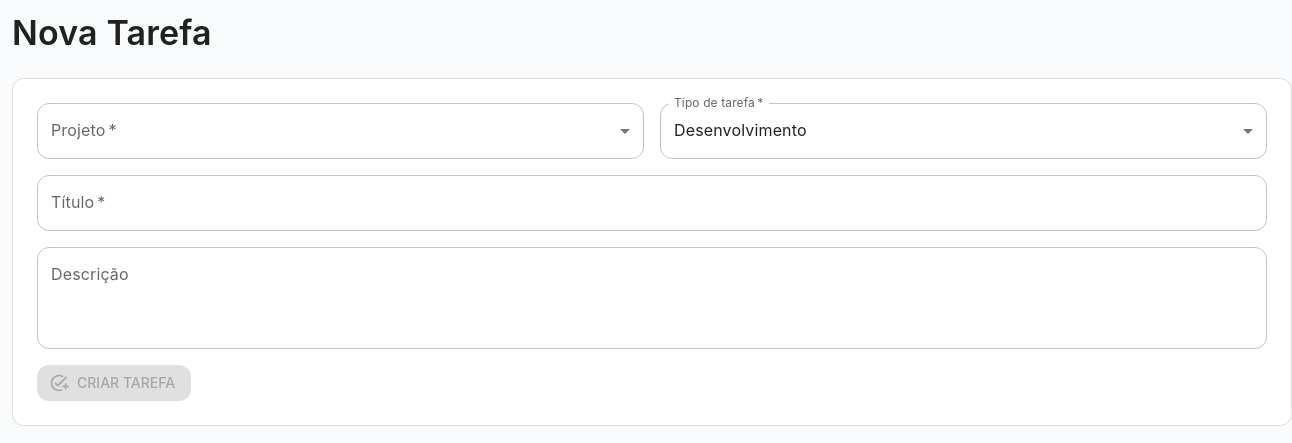
it: NovaTarefaScreen › habilita o botão quando projeto e título estão preenchidos
Click the 1st dropdown. click: (340, 131)
box: 37,103 -> 644,159
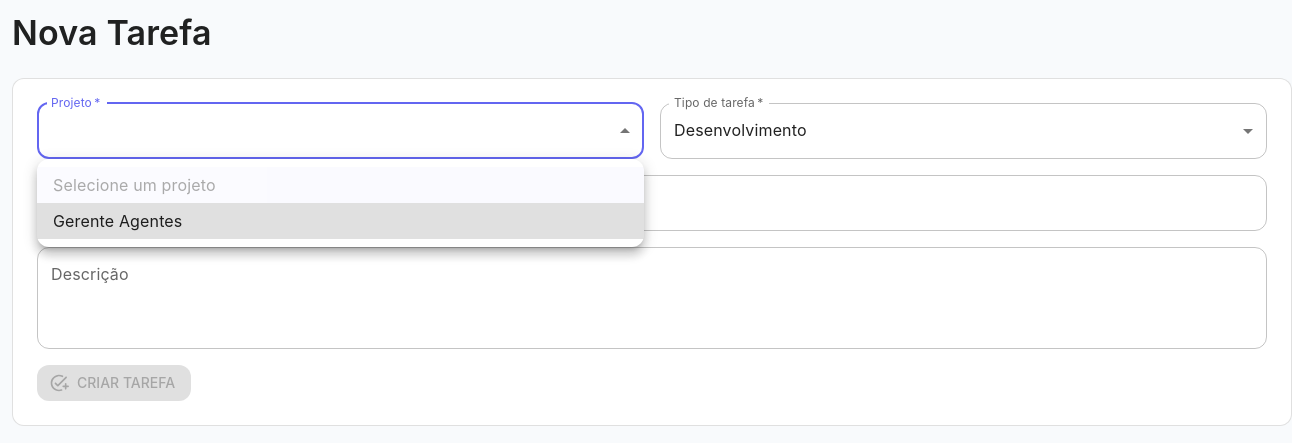
Click the option "Gerente Agentes". click: (118, 221)
box: 37,203 -> 644,239
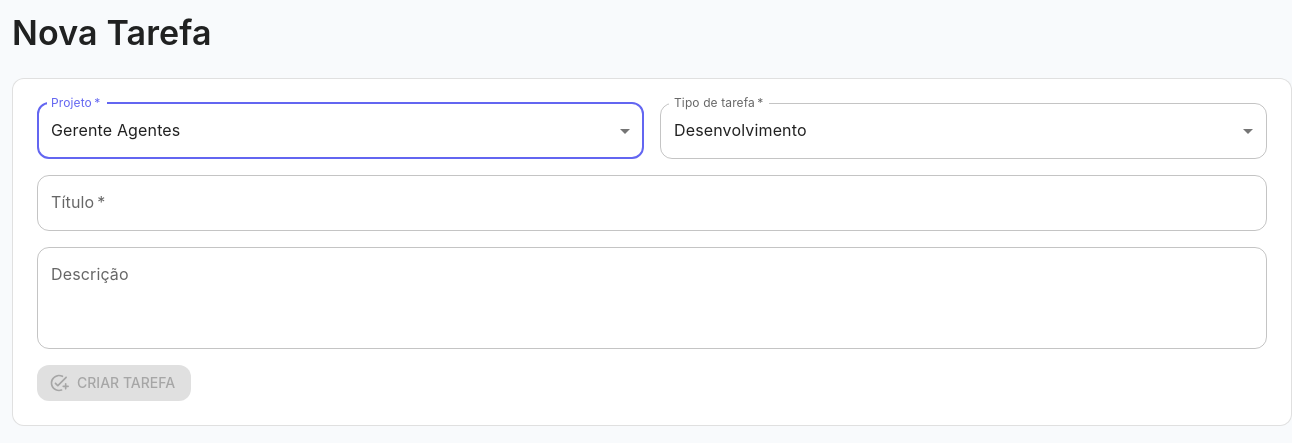
Type "Alguma tarefa" into the field with test id "input-titulo". click: (652, 203)
box: 37,175 -> 1267,231
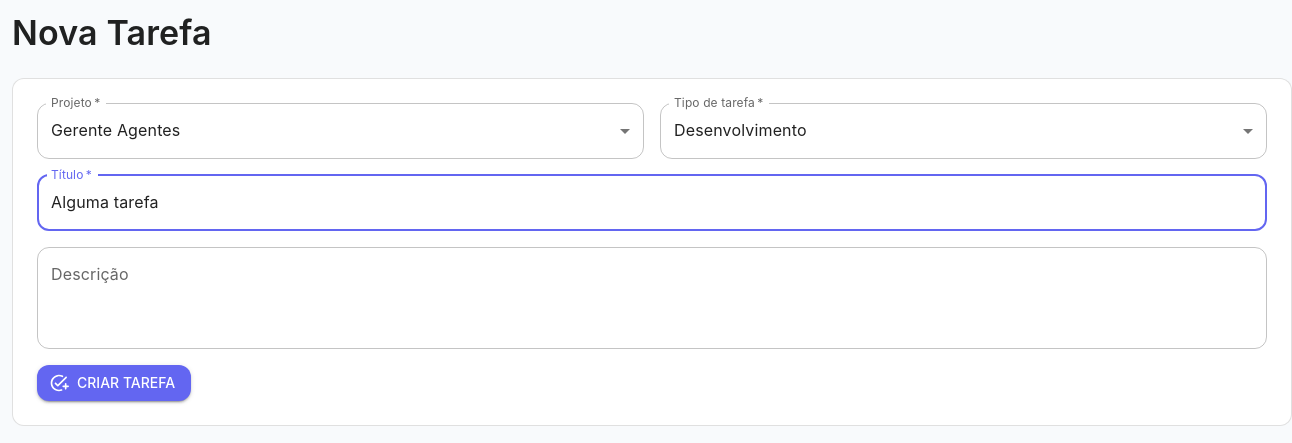
Check: the button with test id "btn-enviar" is enabled, box 37,365 -> 191,402
Replace the text in the field with test id "input-titulo" with "x". click: (652, 203)
box: 37,175 -> 1267,231
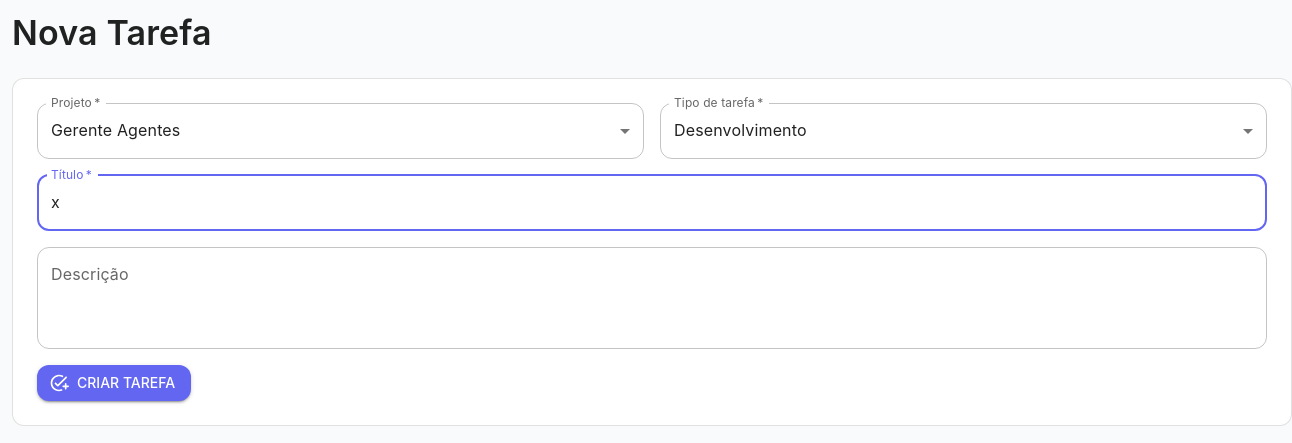
Clear the field with test id "input-titulo". click: (652, 203)
box: 37,175 -> 1267,231
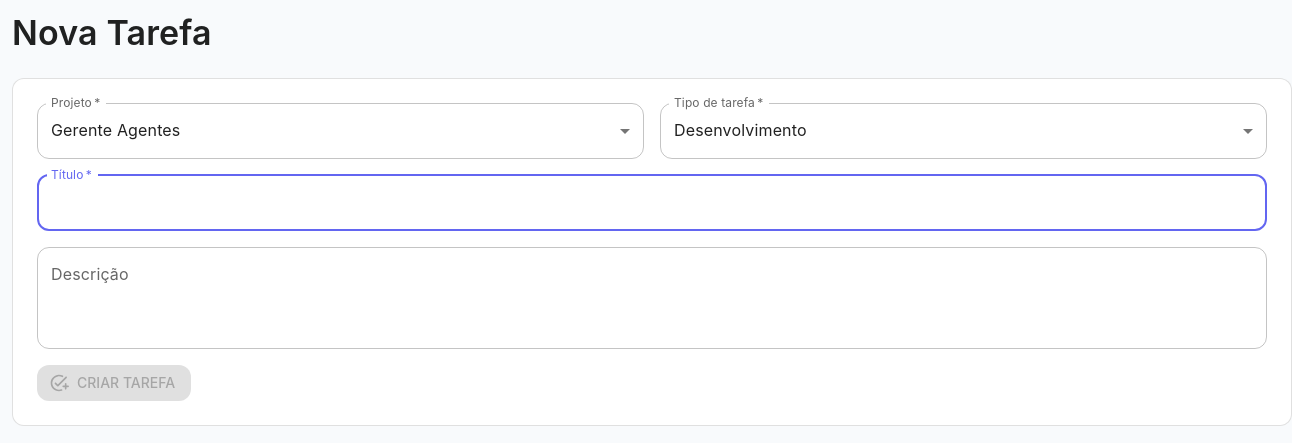
Check: the button with test id "btn-enviar" is disabled, box 37,365 -> 191,402
